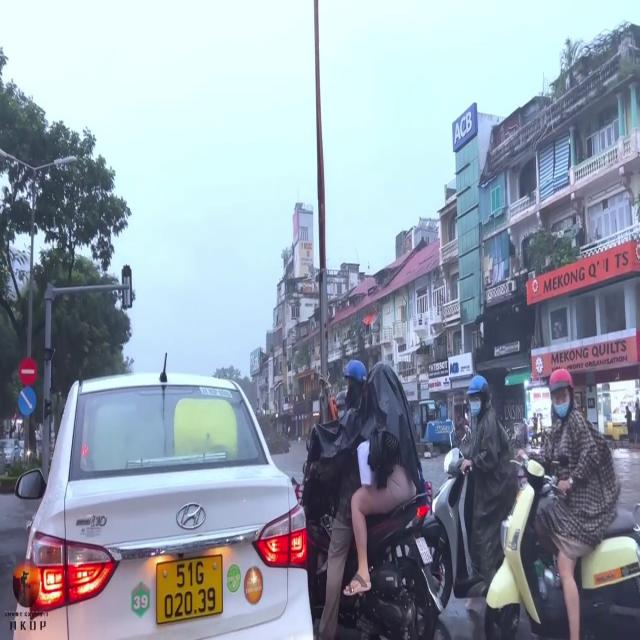bien_vang: (150, 558, 228, 622)
